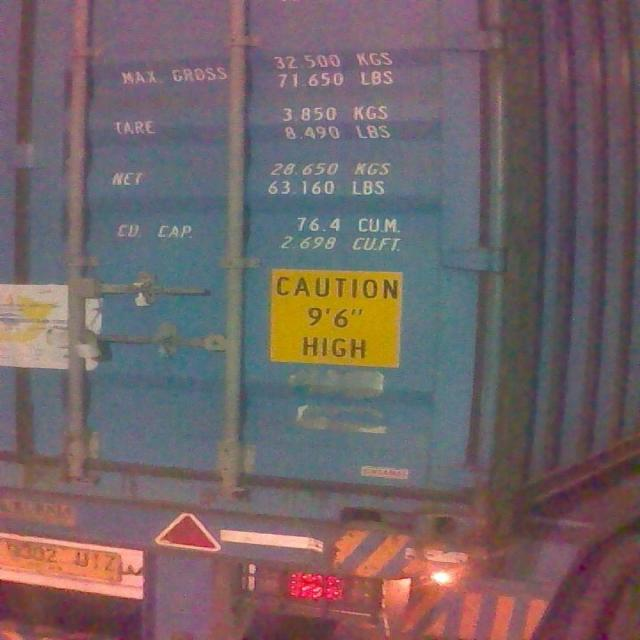seal: (130, 276, 156, 306)
